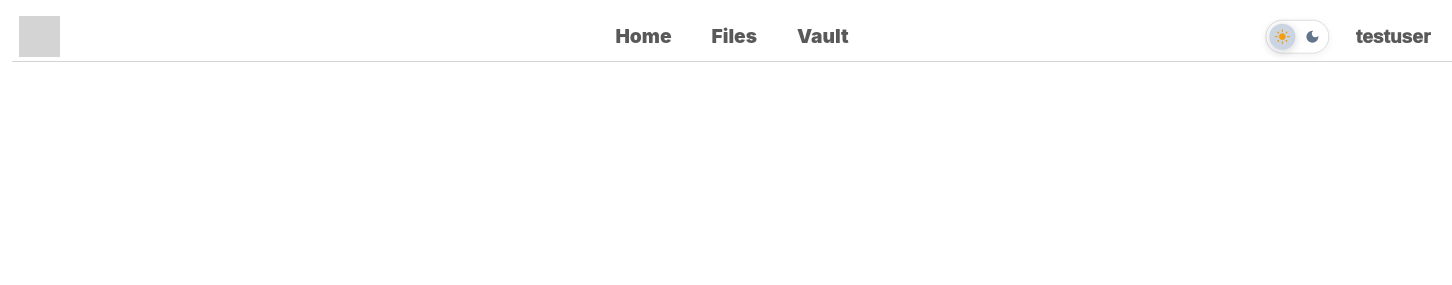
Test case: Toolbar component › shows admin navigation for a management authorization
The image size is (1452, 285).
Click the button "testuser": (1393, 36) [1341, 12, 1445, 61]
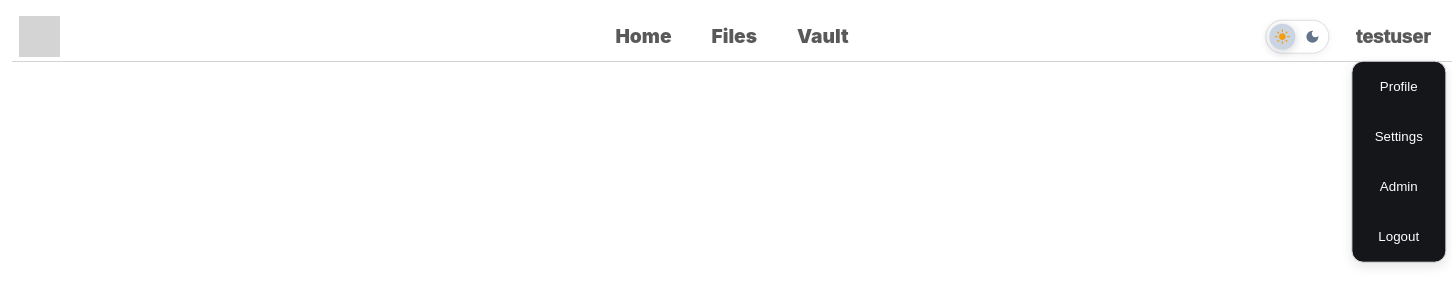
Result: the button "Admin" is shown at [1352, 162, 1445, 212]
